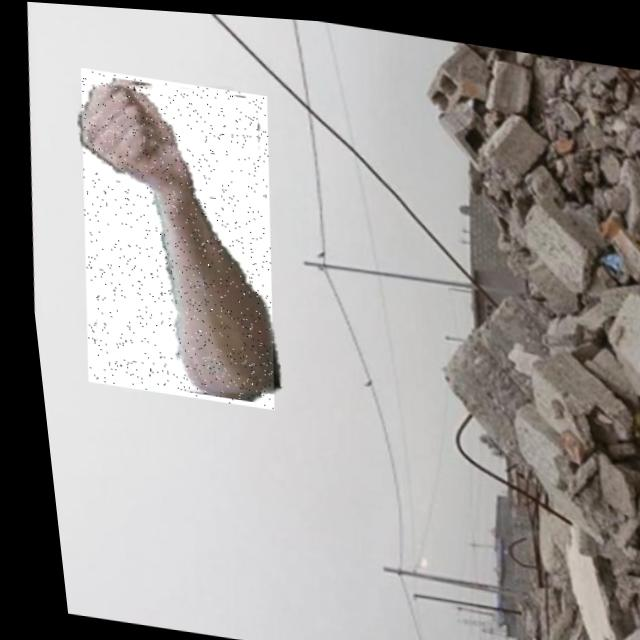Person in Rubble: (51, 64, 292, 407)
